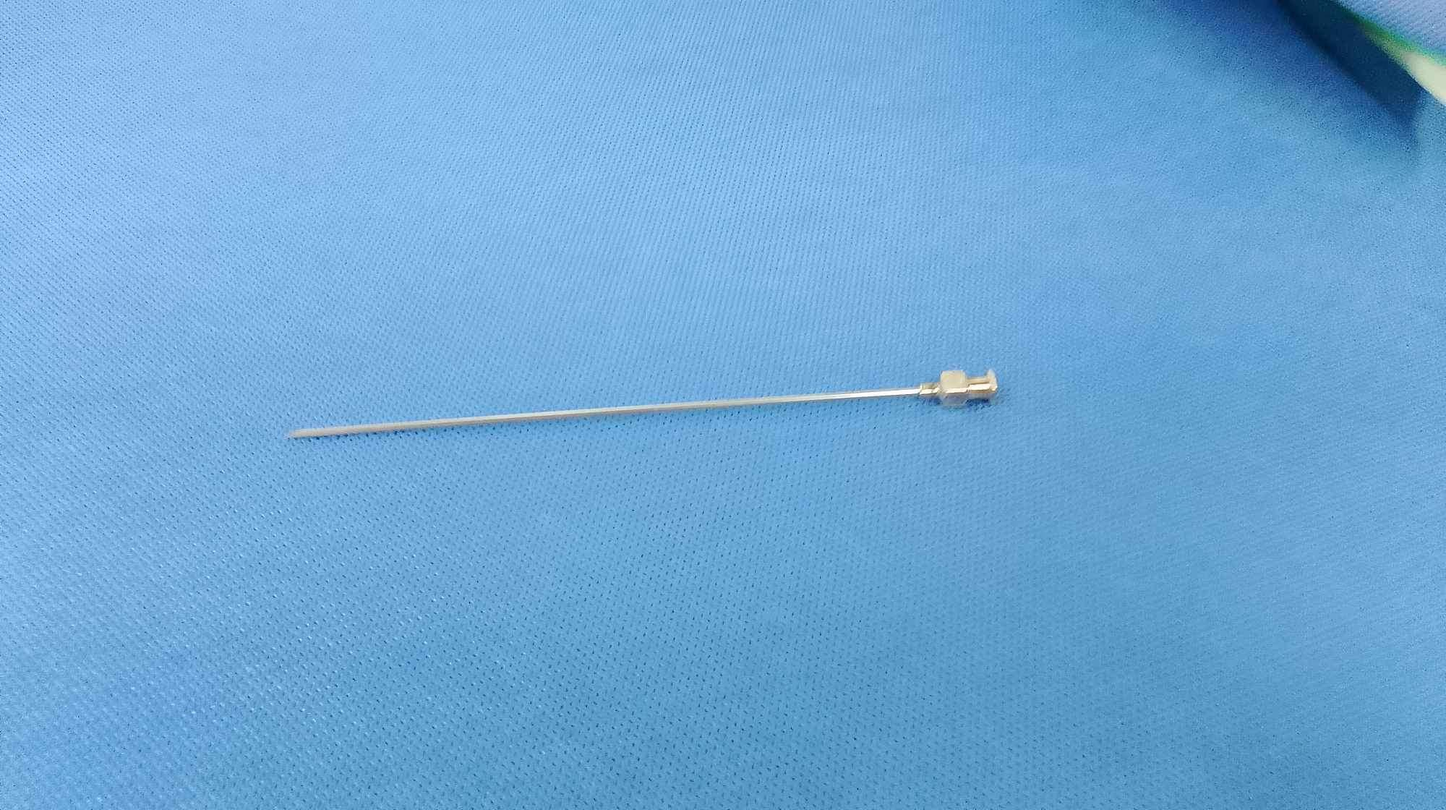Pathological: (5, 3, 1438, 805)
Sharps: (285, 367, 1000, 441)
